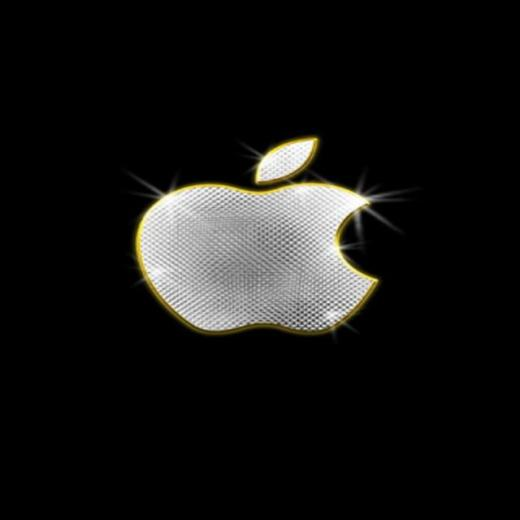Apple: (144, 136, 402, 322)
